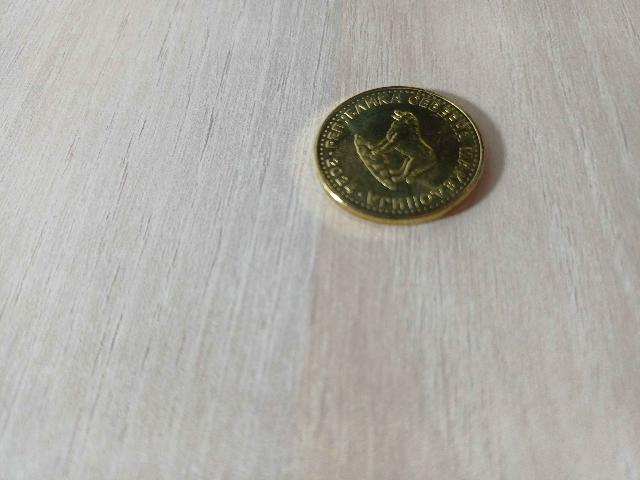1_coin: (316, 87, 483, 223)
